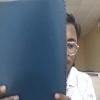notebook: (0, 0, 67, 99)
